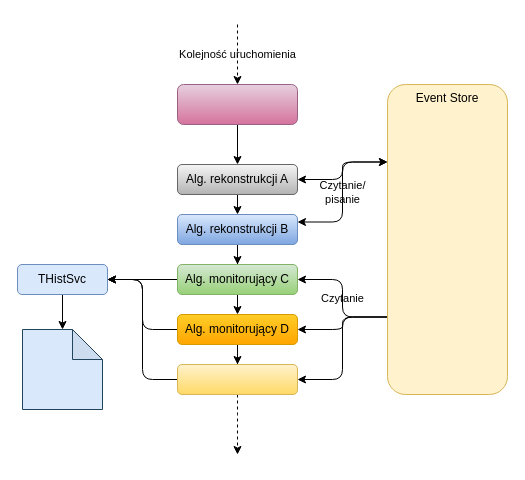
This 525x480 diagram has some shape labels left out. The shapes that lost their labels are listed below. From the top down, each one's centre as x and y in pixels, then its label:
(x=237, y=104): Konfiguracja Python
(x=62, y=369): Pliki z histogramami ROOT
(x=237, y=379): Alg. monitorujący E
